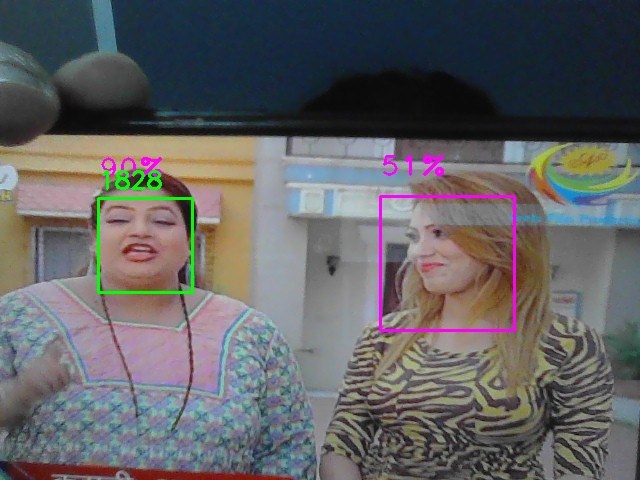fake: (98, 198, 193, 293)
